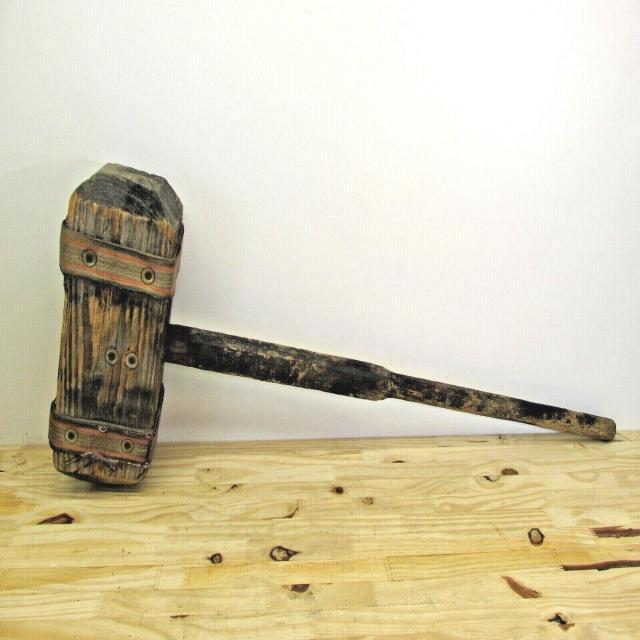hammer: (43, 154, 622, 496)
